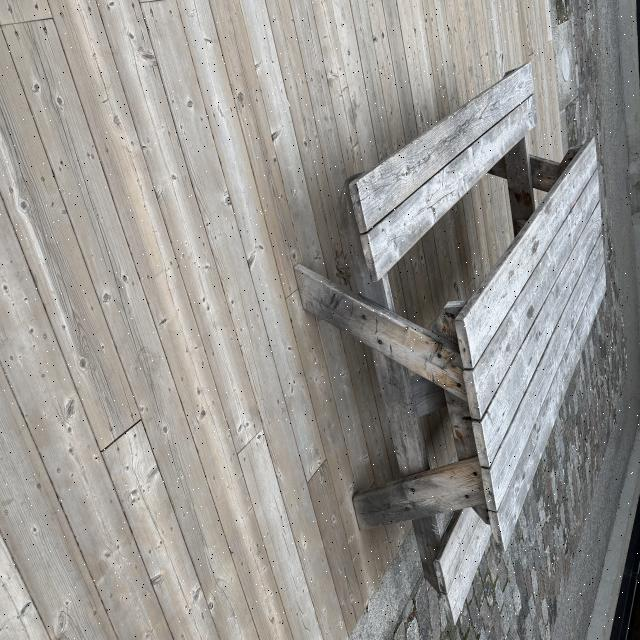Bench: (215, 32, 600, 445)
